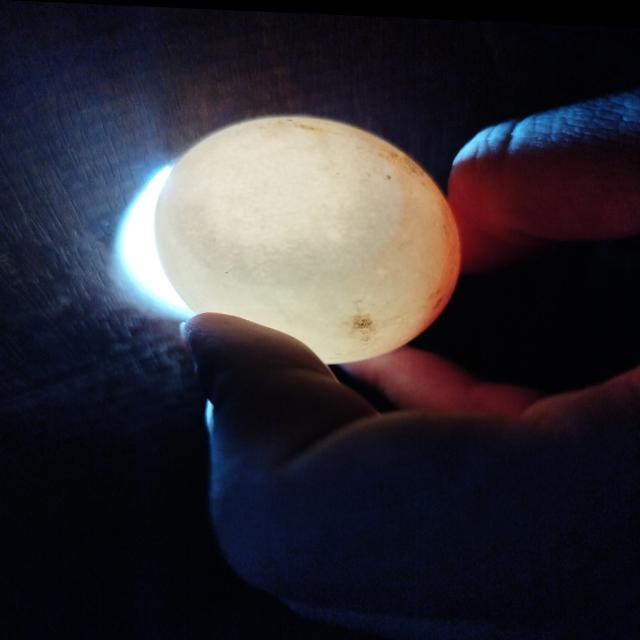Camara de Ar: (158, 115, 404, 284)
